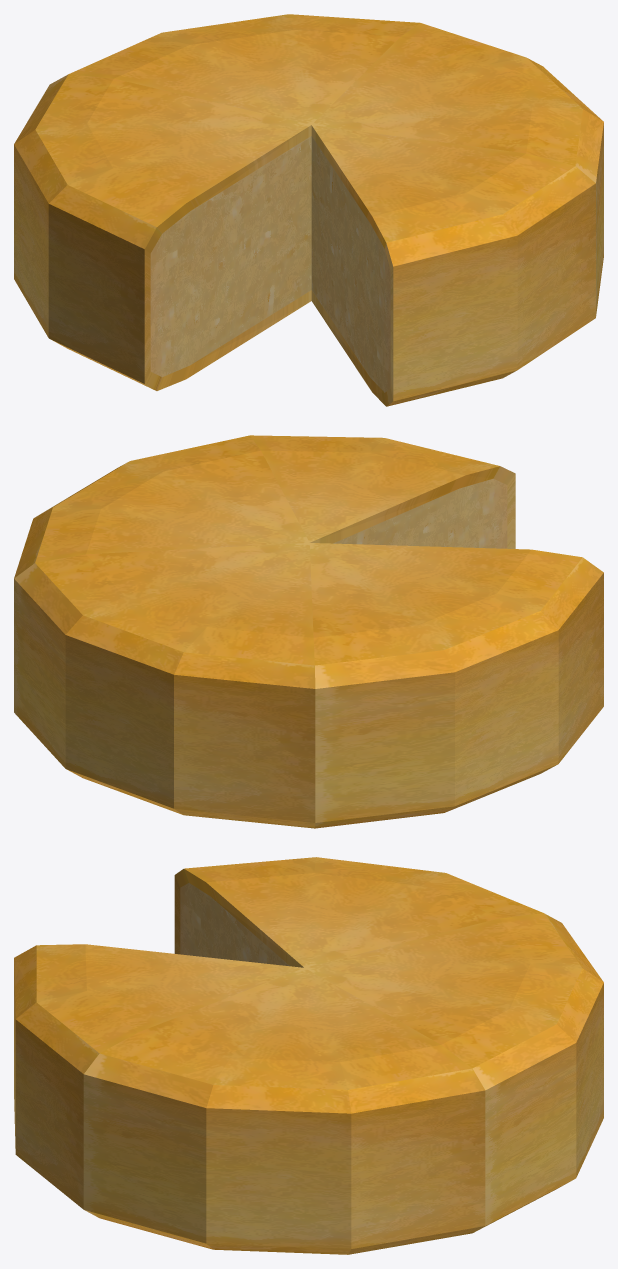
File: lowqgraphgame.fbx_BigCheese (2).fbx
3 renders of one model, top to bottom at view 1: azimuth 30°, elevation 25°; view 2: azimuth 150°, elevation 25°; view 3: azimuth 270°, elevation 25°, orthographic.
Visible parts, largest first — view 1: BigCheese; view 2: BigCheese; view 3: BigCheese.
Part boxes in pixels (bbox=[...]): BigCheese: bbox=[14, 14, 603, 406]; BigCheese: bbox=[14, 435, 603, 828]; BigCheese: bbox=[14, 857, 603, 1254].
Bounding box in the file's own units: 36.71 × 12.08 × 36.48.
